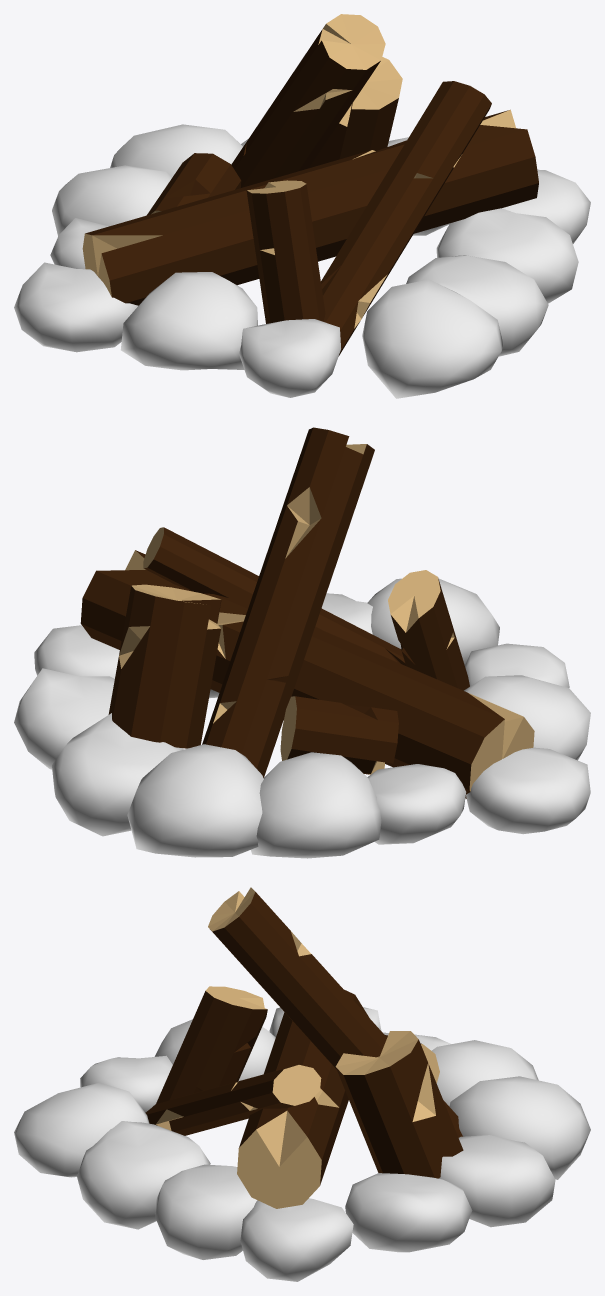
File: fogata.fbx
3 renders of one model, top to bottom at view 1: azimuth 30°, elevation 25°; view 2: azimuth 150°, elevation 25°; view 3: azimuth 270°, elevation 25°, orthographic. The views are drawn at different scales.
Parts seen in each view (by area): view 1: Log.009; view 2: Log.009; view 3: Log.009.
Boxes of the visible parts, bbox=[...] form: Log.009: bbox=[14, 14, 590, 398]; Log.009: bbox=[14, 427, 590, 858]; Log.009: bbox=[14, 887, 590, 1281].
Size of the model in its own units: 485 by 266 by 476.
